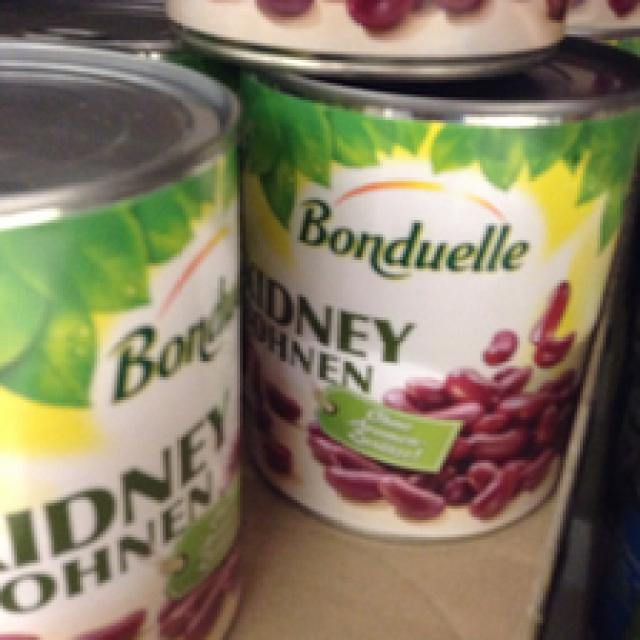groceries: (234, 37, 637, 546), (0, 62, 234, 634)
